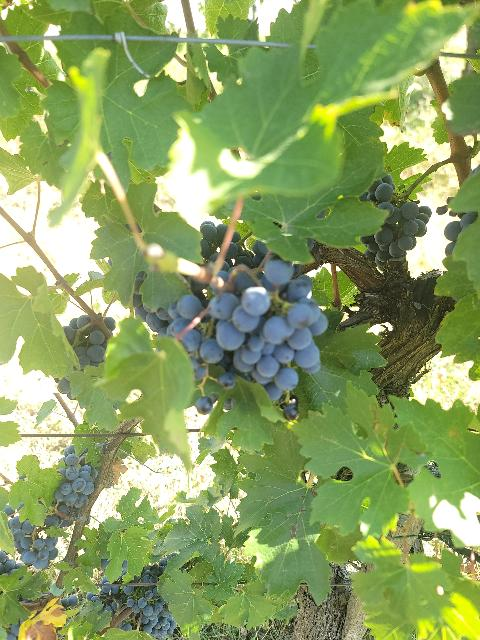grapes: (209, 256, 329, 400), (360, 175, 430, 268), (9, 515, 63, 570), (55, 445, 98, 512), (63, 315, 116, 369)
